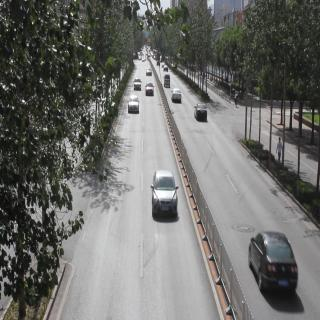Car: (240, 223, 301, 309), (147, 159, 187, 230), (194, 95, 208, 124), (127, 94, 140, 119), (168, 88, 188, 104), (132, 76, 144, 95), (144, 82, 154, 103), (144, 65, 153, 80), (163, 73, 171, 89)
